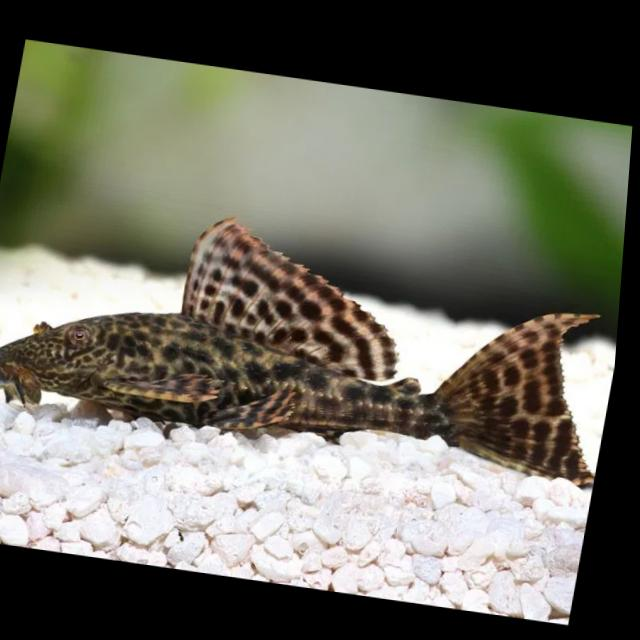fish: (0, 173, 630, 510)
